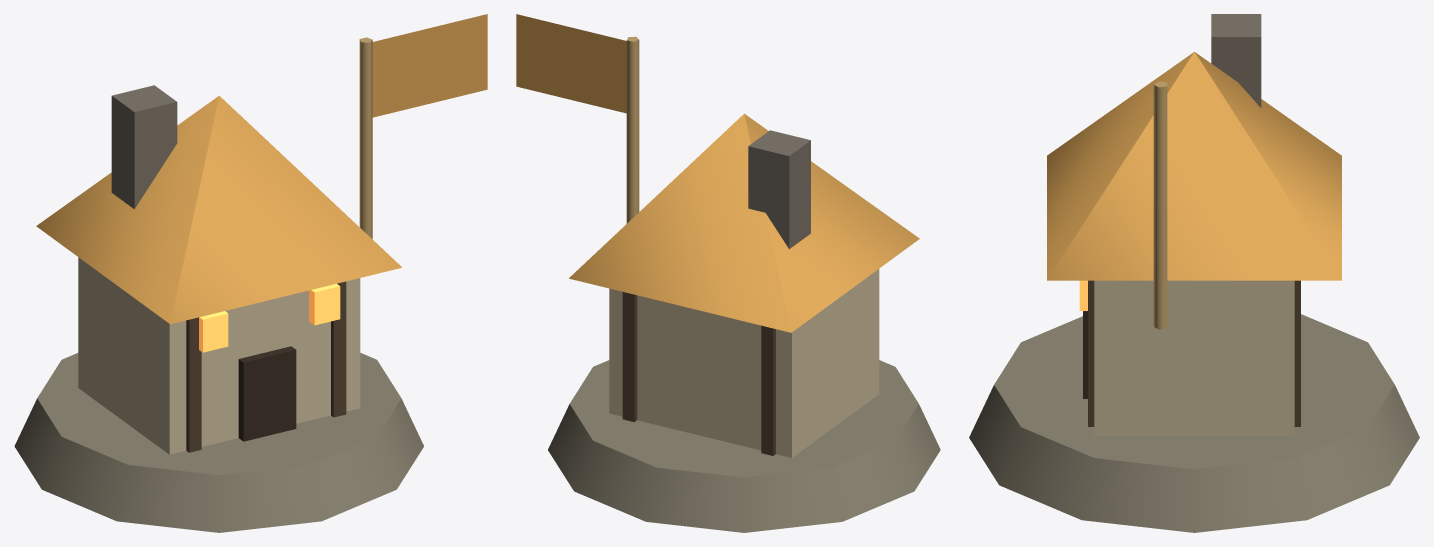
Rendered from settlement.glb.
3 renders of one model, left to right at view 1: azimuth 30°, elevation 25°; view 2: azimuth 150°, elevation 25°; view 3: azimuth 270°, elevation 25°, orthographic. The views are drawn at different scales.
Parts seen in each view (by area): view 1: settlement; view 2: settlement; view 3: settlement.
Part boxes in pixels (x1,y1,x2,y2): settlement: (14,14,487,532); settlement: (516,14,940,532); settlement: (969,14,1419,532).
Size of the model in its own units: 0.655 by 0.56 by 0.54.
